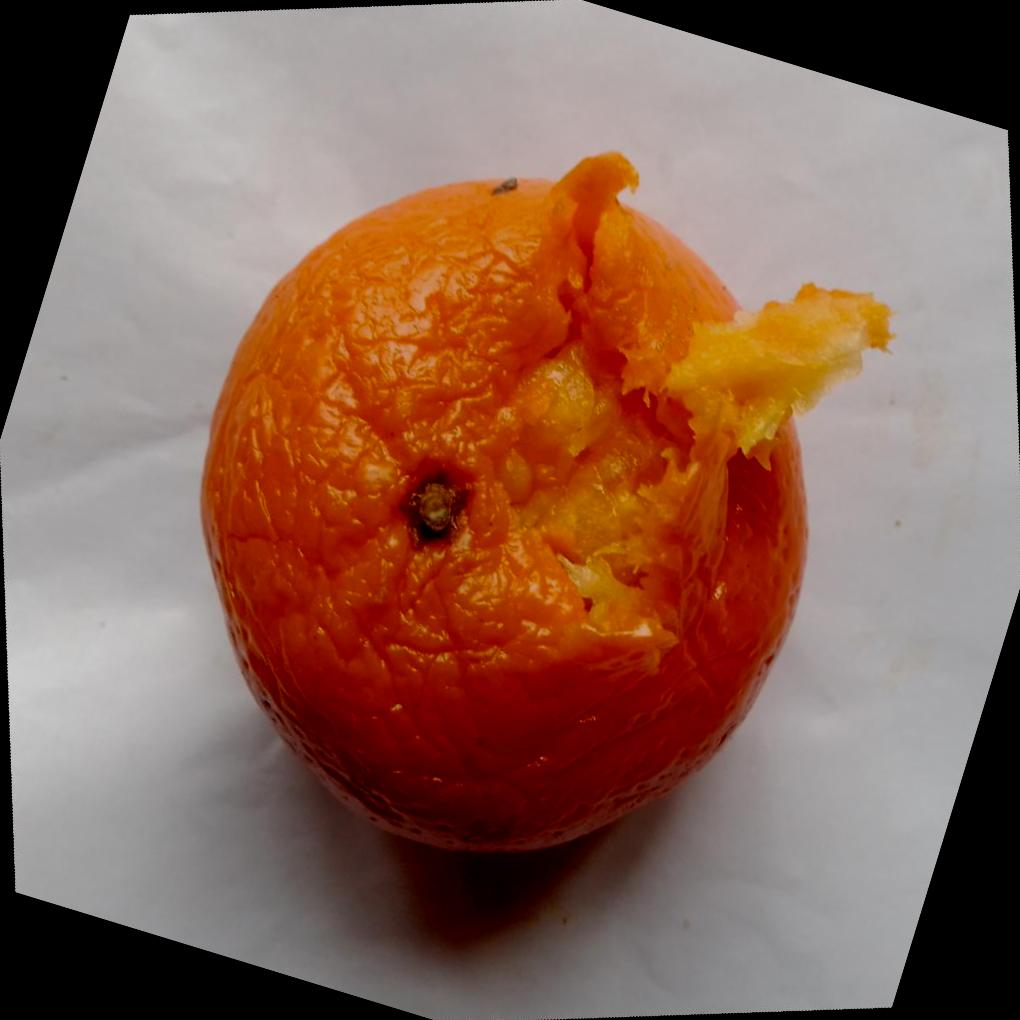FreshOrange: (199, 146, 896, 852)
